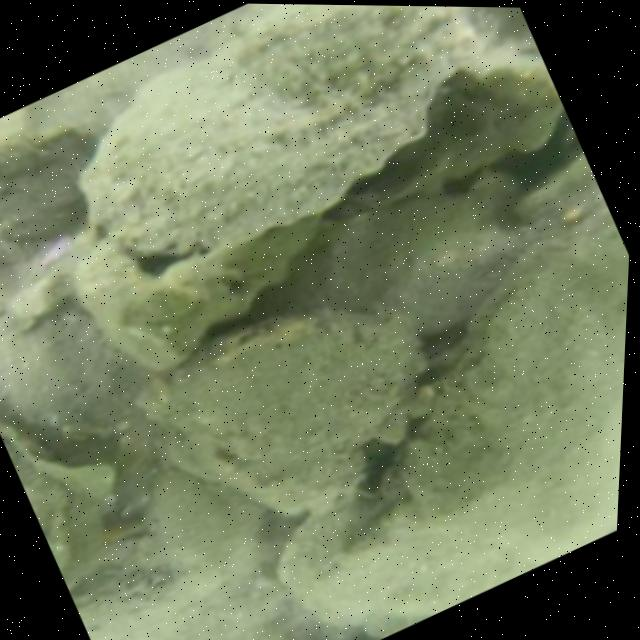Oyster-Closed: (353, 206, 628, 571)
Oyster-Indeterminate: (79, 4, 490, 258), (156, 310, 420, 502), (317, 192, 544, 333)
